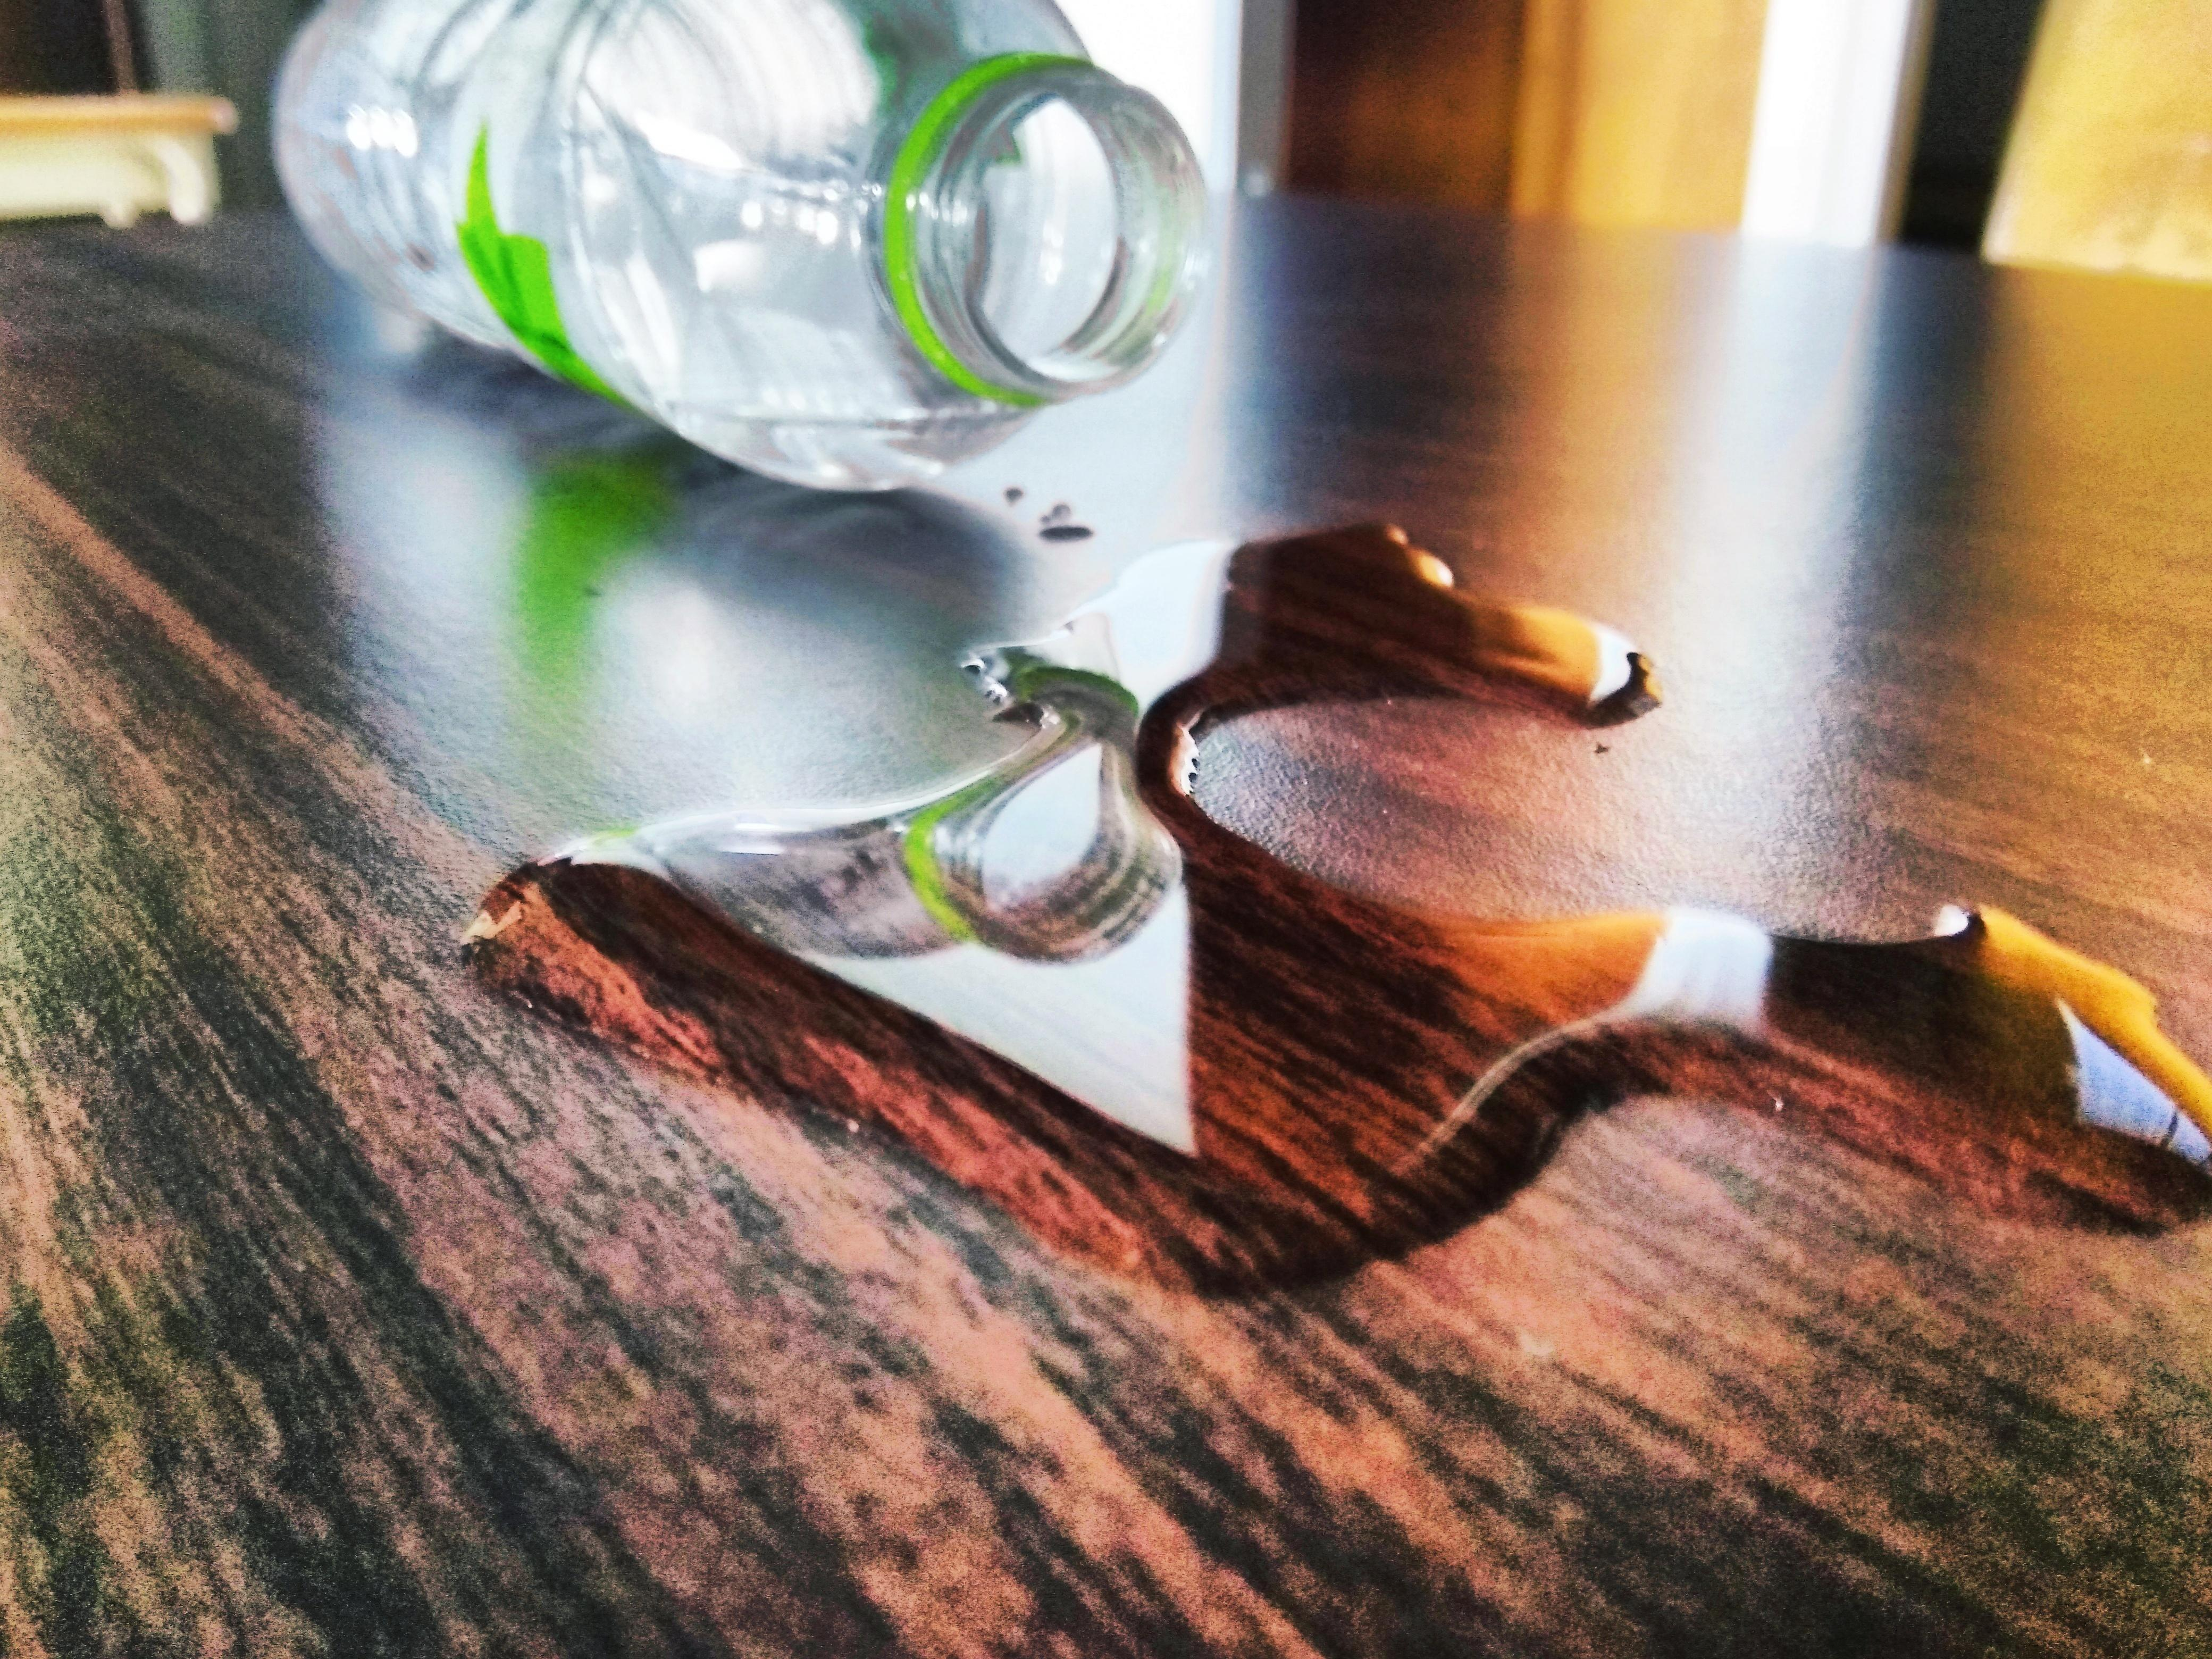bottle: (253, 2, 1245, 584)
